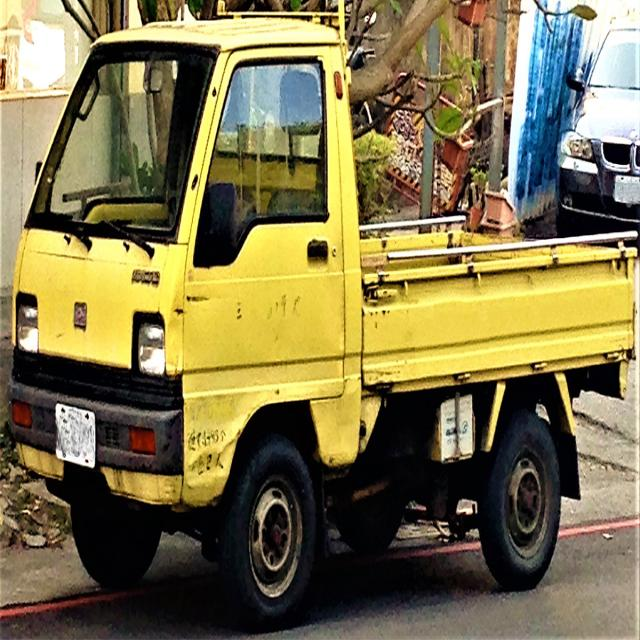trunk: (1, 0, 637, 620)
